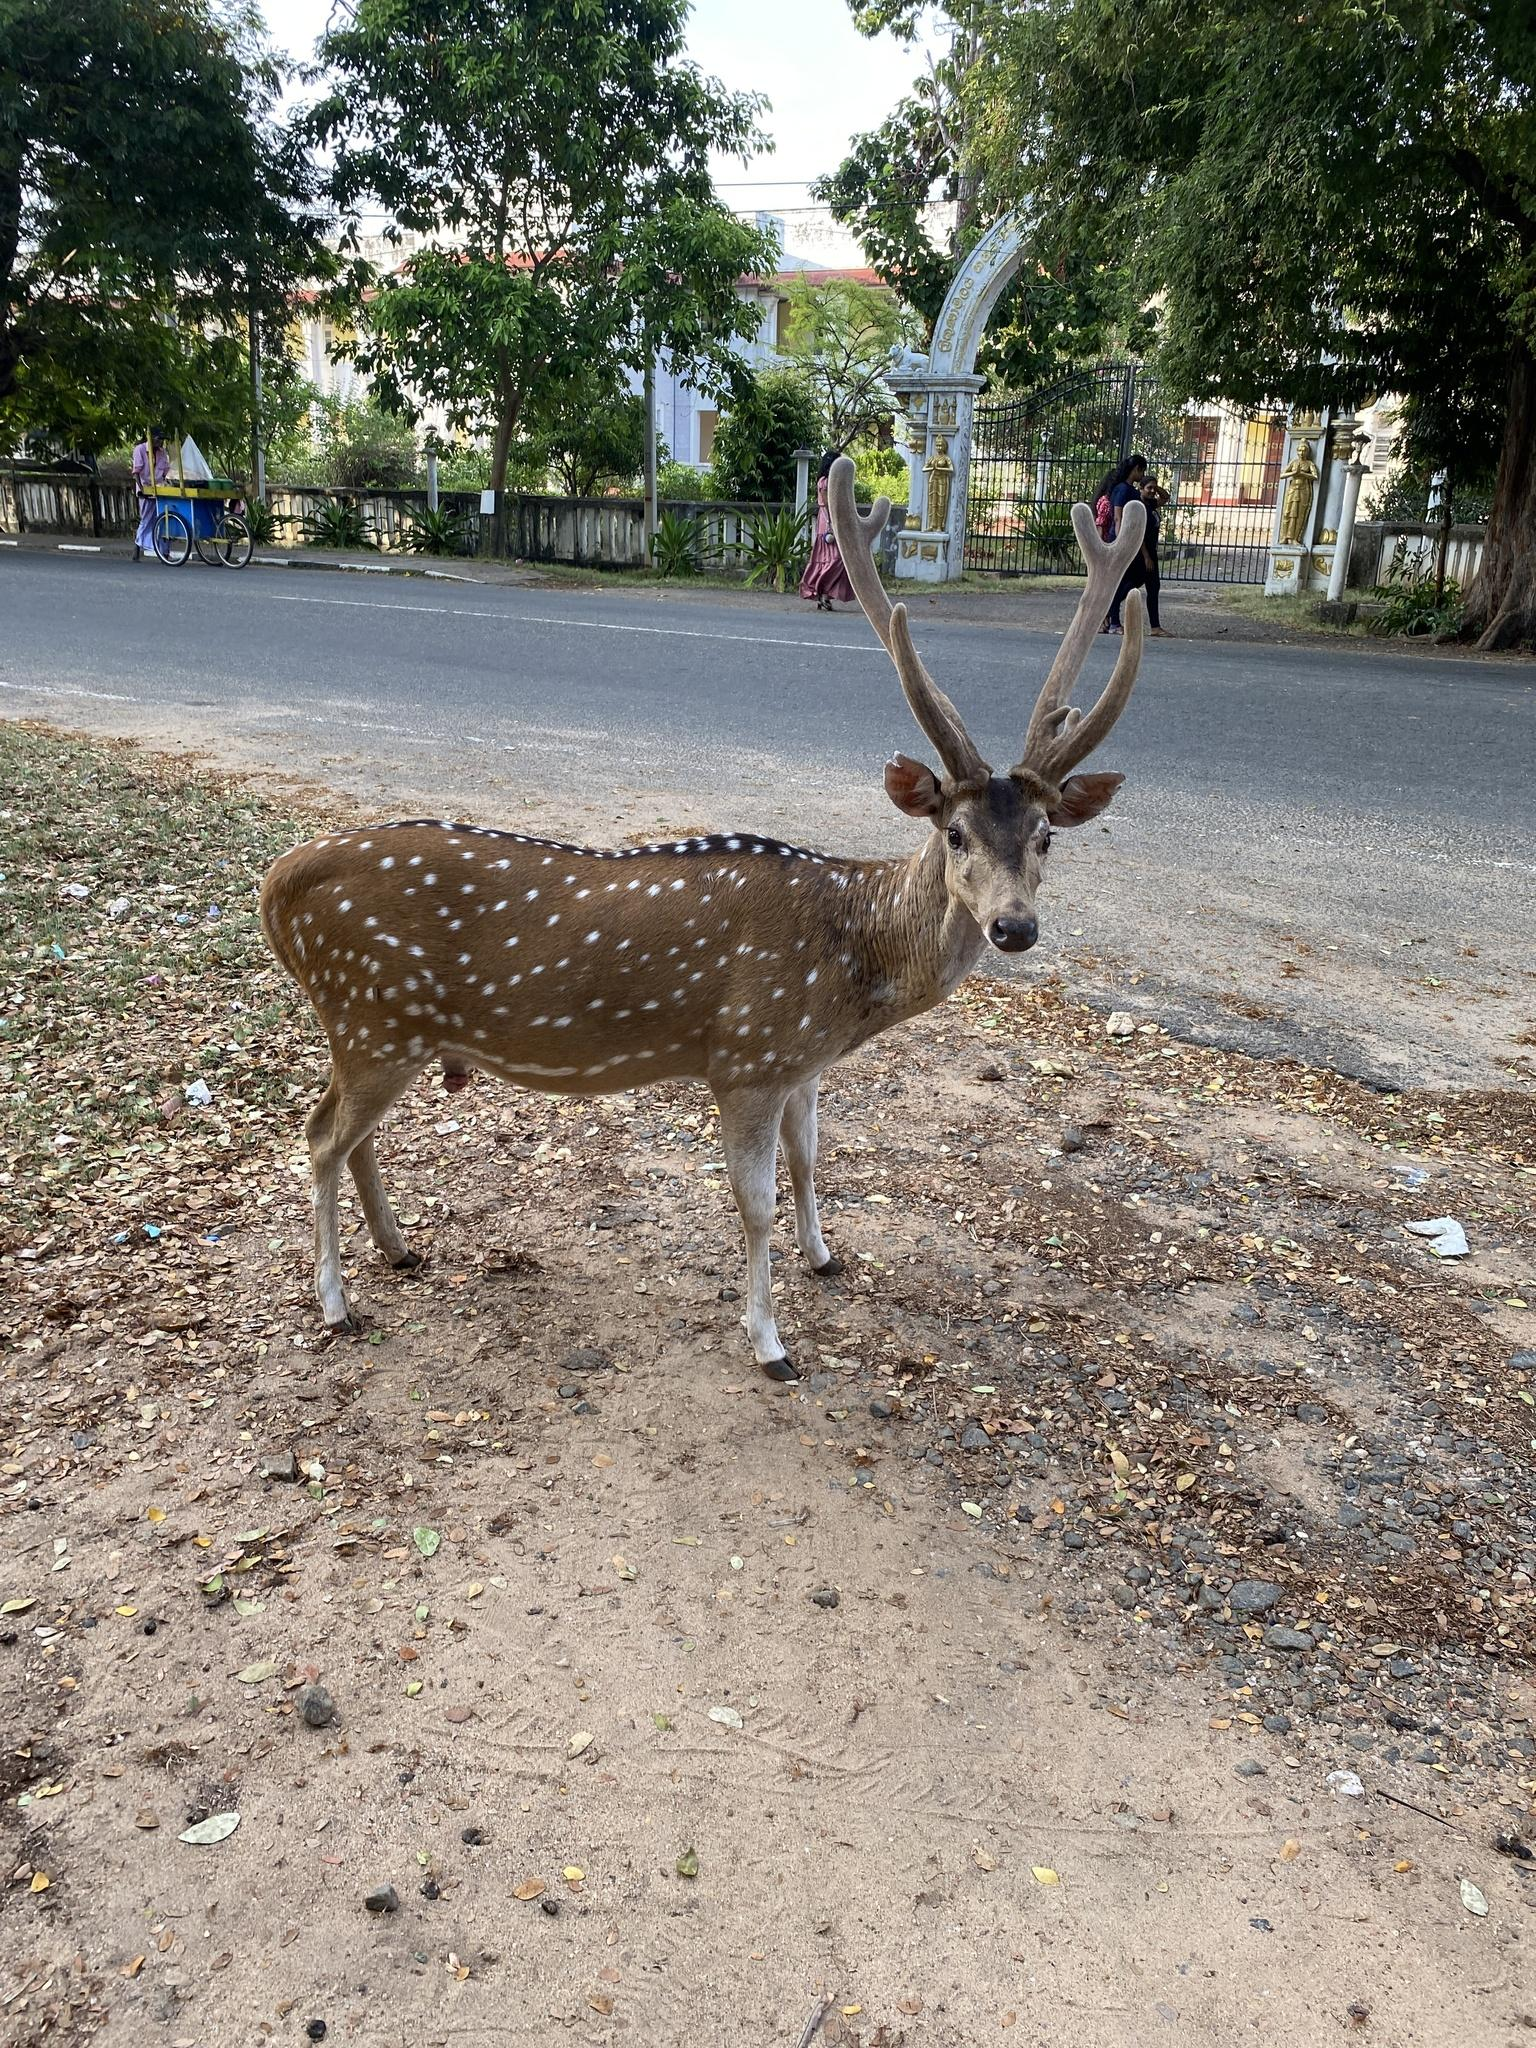Deer: (261, 456, 1146, 1379)
